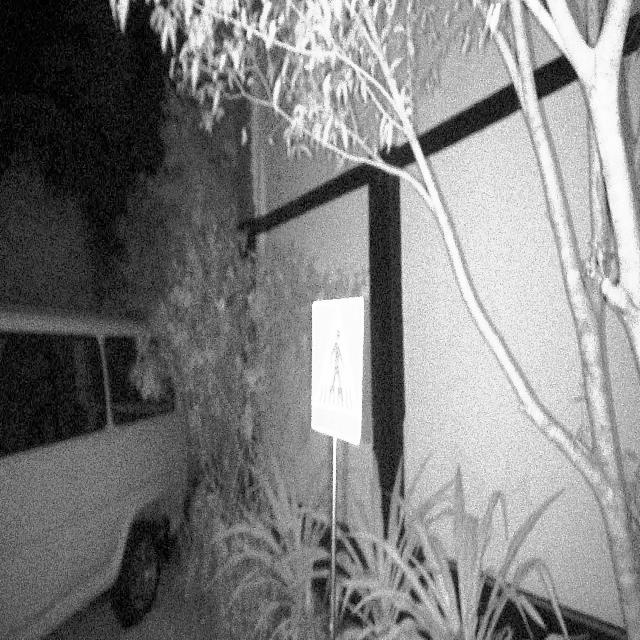Sign: (309, 296, 365, 448)
Tree: (464, 0, 640, 640)
